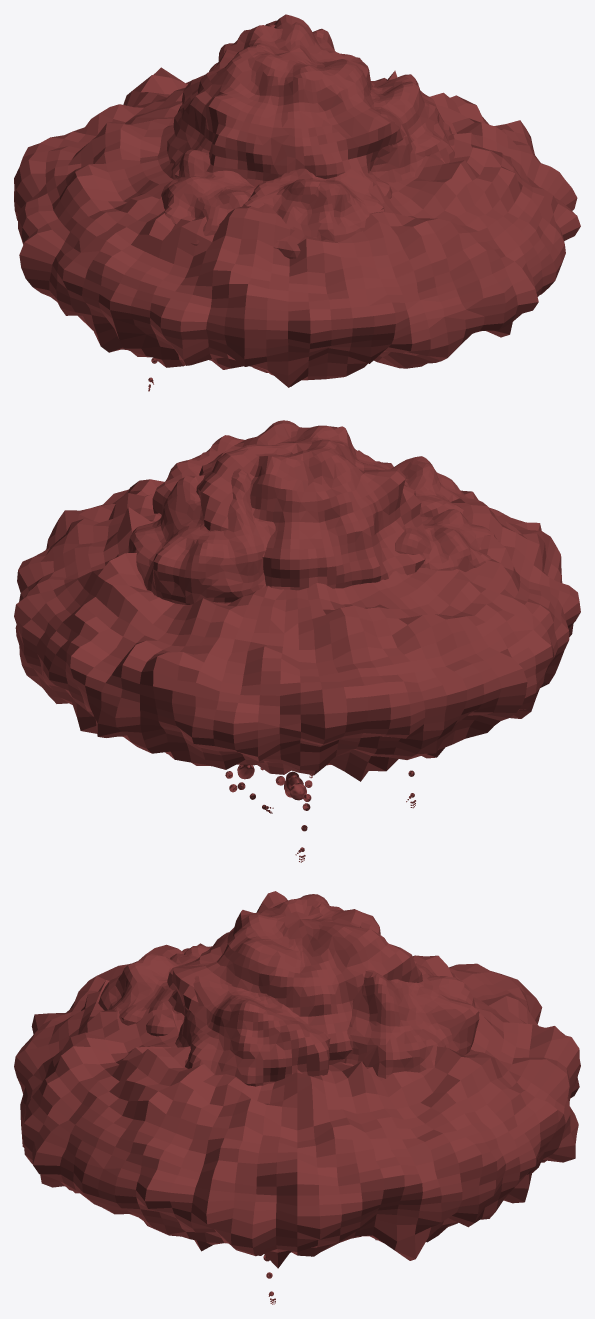
File: acheron_pile.glb
3 views of the same model, one above another, from view 1: azimuth 30°, elevation 25°; view 2: azimuth 150°, elevation 25°; view 3: azimuth 270°, elevation 25° (orthographic). The views are drawn at different scales.
Visible parts, largest first — view 1: acheron_pile; view 2: acheron_pile; view 3: acheron_pile.
Part boxes in pixels (x1,y1,x2,y2): acheron_pile: (14,14,580,391); acheron_pile: (14,420,580,862); acheron_pile: (14,891,580,1304).
Bounding box in the file's own units: 7.38 × 4.81 × 7.11.
